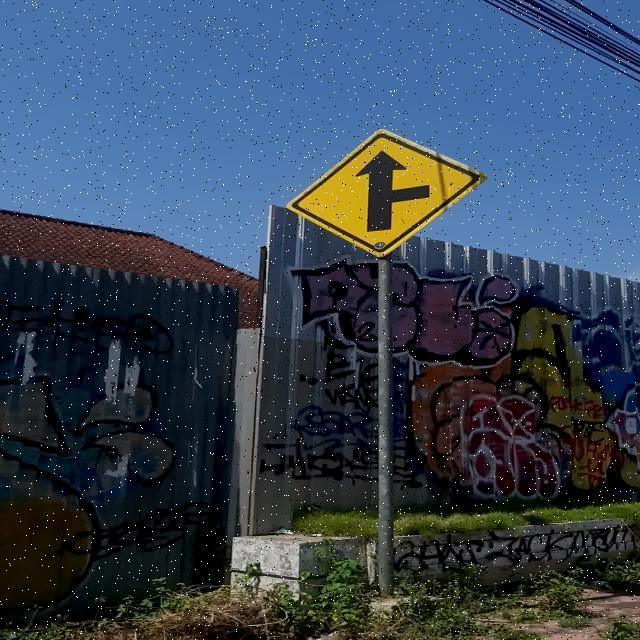Persimpangan 3 Prioritas Kanan: (286, 128, 487, 258)
